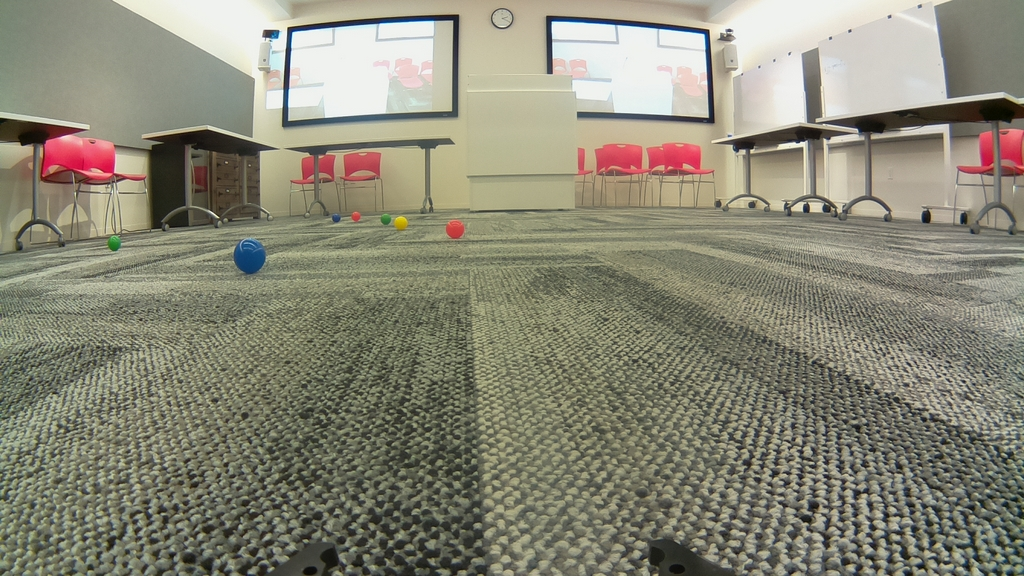ball: (108, 234, 120, 253)
